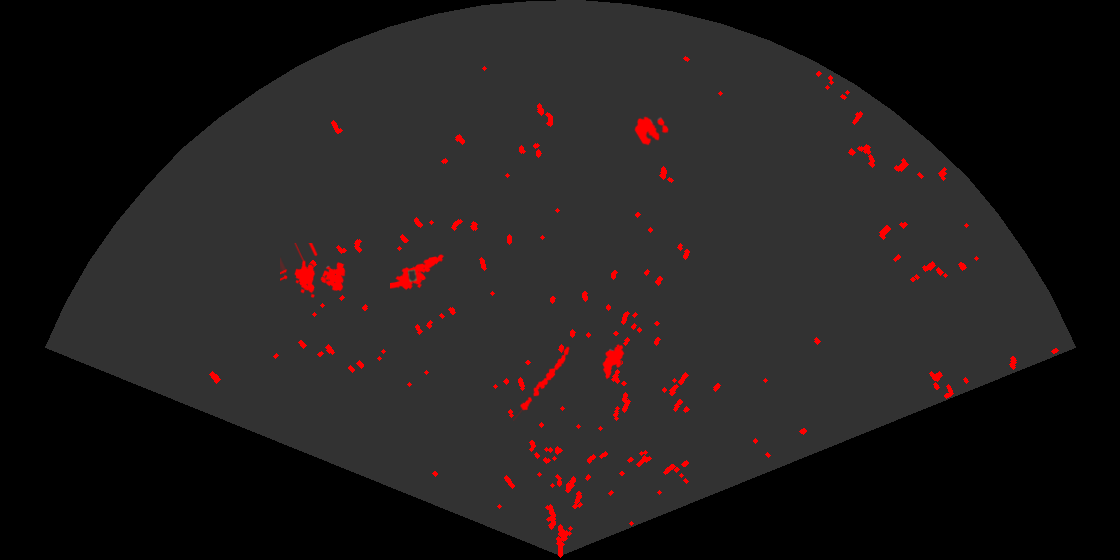AUV: (601, 342, 626, 381)
ball: (633, 115, 670, 147)
cage: (280, 243, 347, 299)
chain: (513, 345, 571, 421)
frogman: (390, 253, 446, 292)
